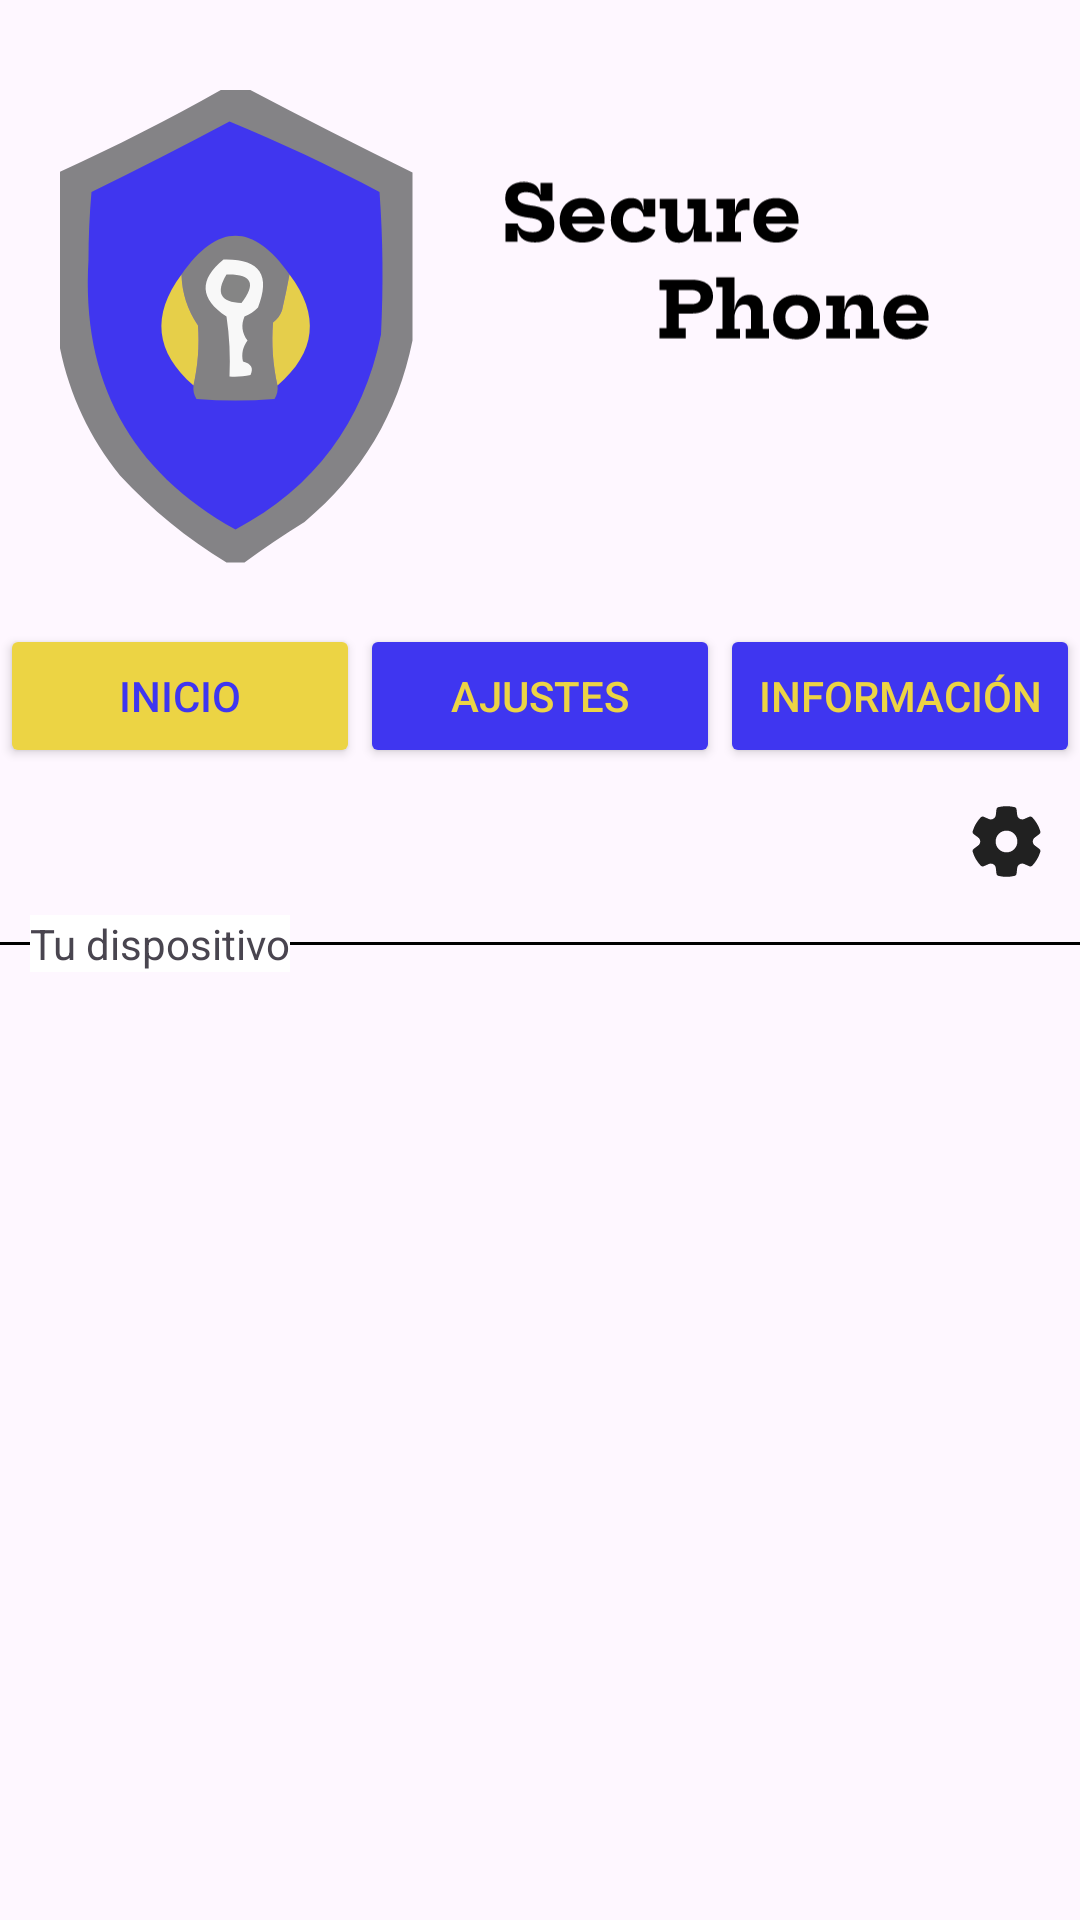

Named icons in this screenshot (1080px x 1920px) and their centers, (x,y):
gear: (1006,841)
